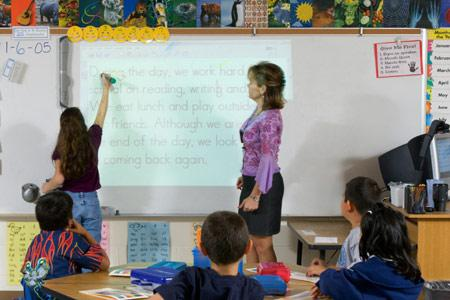person: (42, 73, 112, 248)
